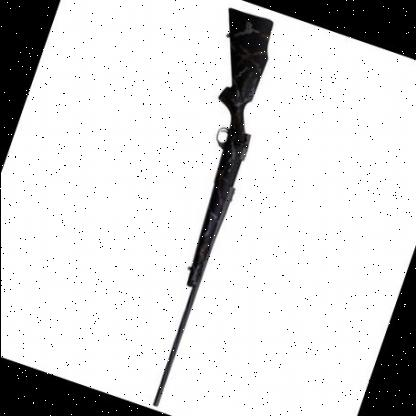rifle: (100, 6, 298, 412)
